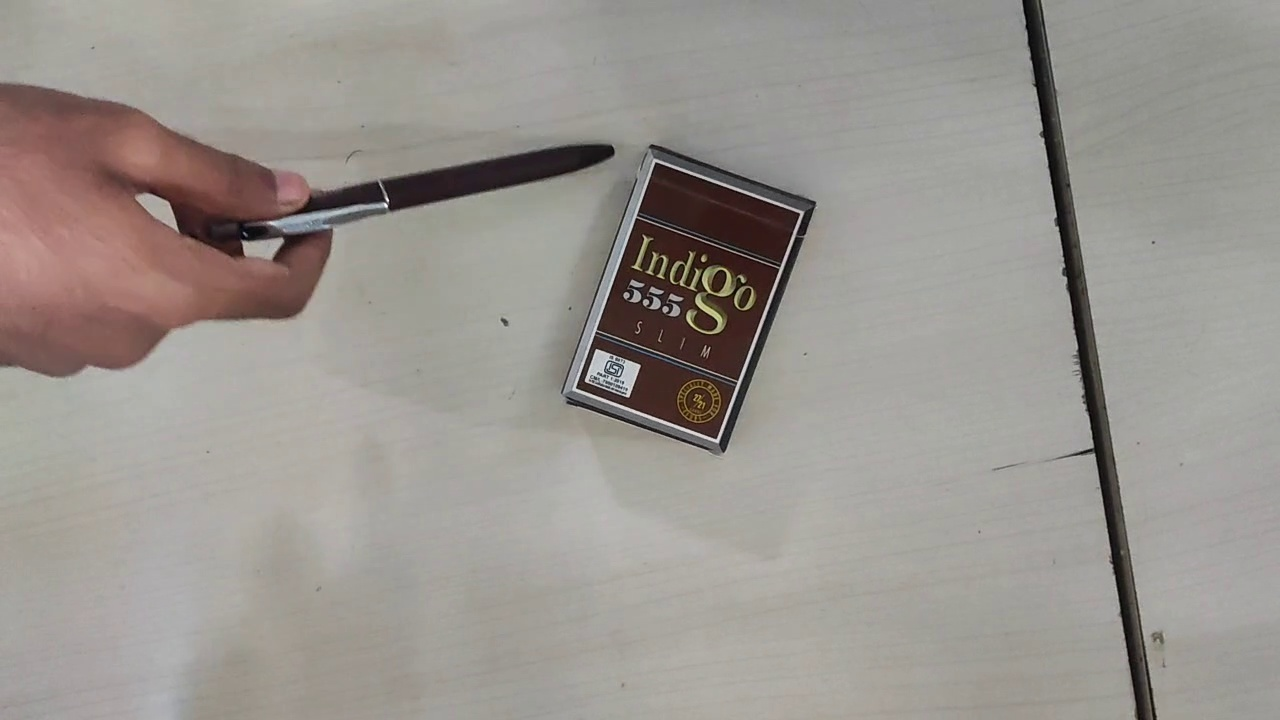BEX: (572, 157, 801, 440)
